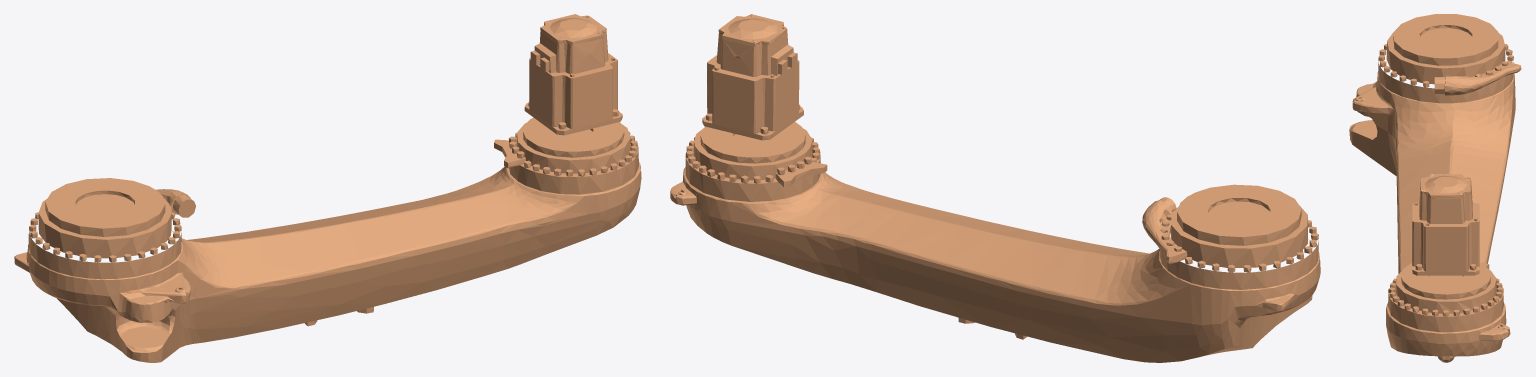
3 views of the same model, side by side, from view 1: azimuth 30°, elevation 25°; view 2: azimuth 150°, elevation 25°; view 3: azimuth 270°, elevation 25° (orthographic). The views are drawn at different scales.
Visible parts, largest first — view 1: /Link_2/Link_2_002-mesh/0; view 2: /Link_2/Link_2_002-mesh/0; view 3: /Link_2/Link_2_002-mesh/0.
Part boxes in pixels (x1,y1,x2,y2): /Link_2/Link_2_002-mesh/0: (14,14,641,362); /Link_2/Link_2_002-mesh/0: (670,14,1320,362); /Link_2/Link_2_002-mesh/0: (1349,14,1521,362).
Bounding box in the file's own units: 1.71 × 0.6056 × 0.485.
